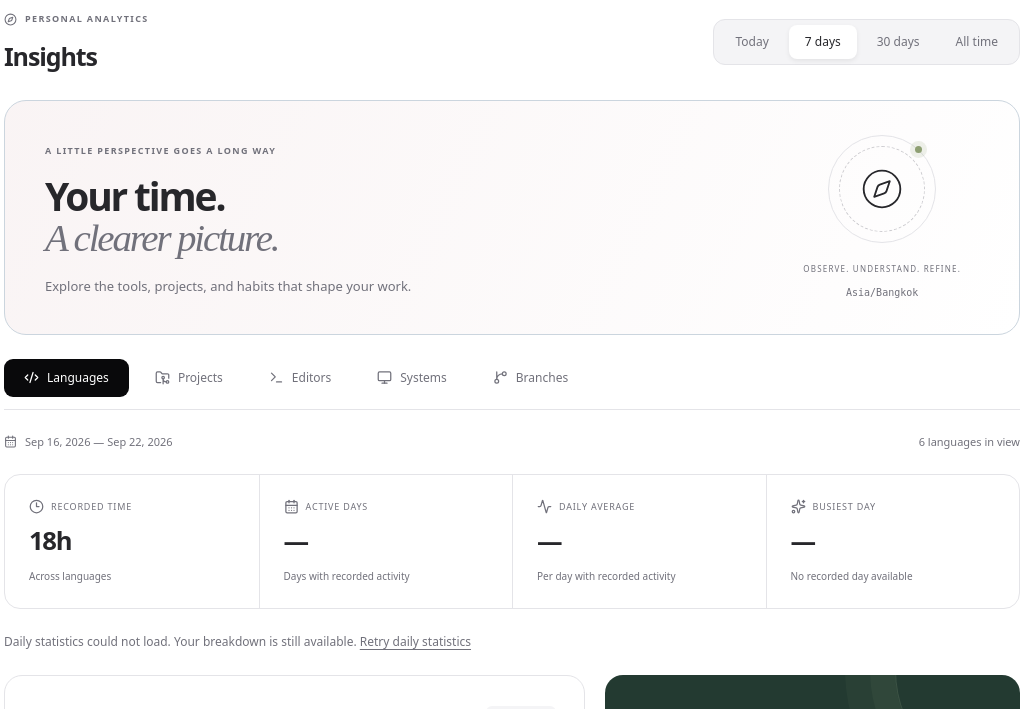
Test: retries unavailable daily statistics without losing the insight report
Click the button "Retry daily statistics".
click(415, 642)  # box [360,633,471,651]
(page scrolled)
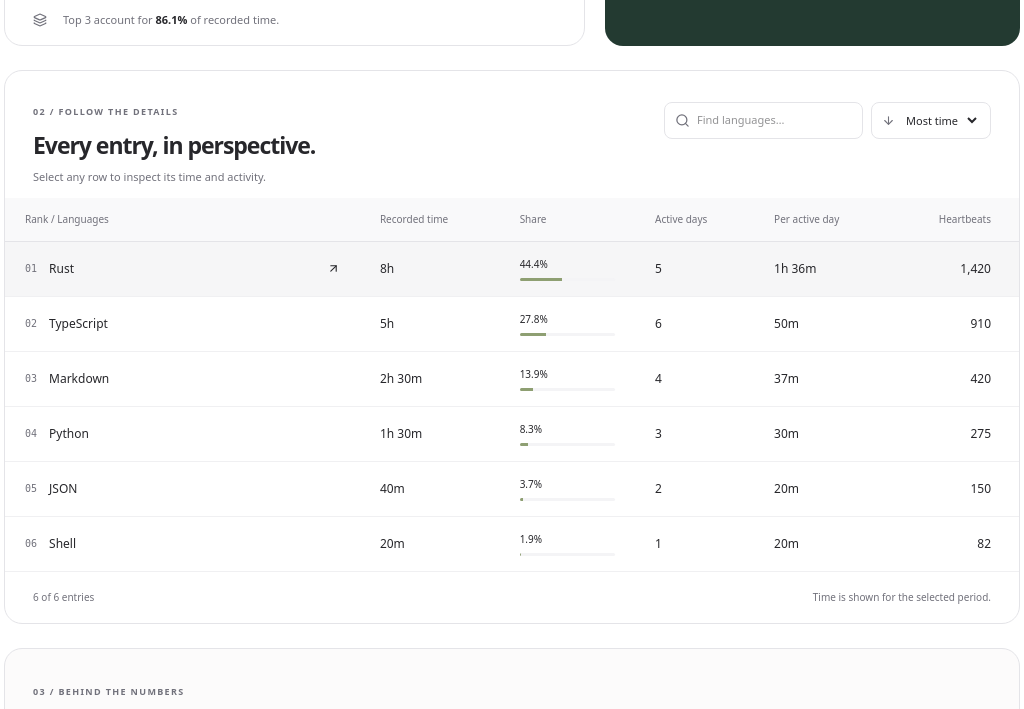
Expected: the table is shown, [5,198,1019,572]
Result: the text "Daily statistics could not load" is gone
